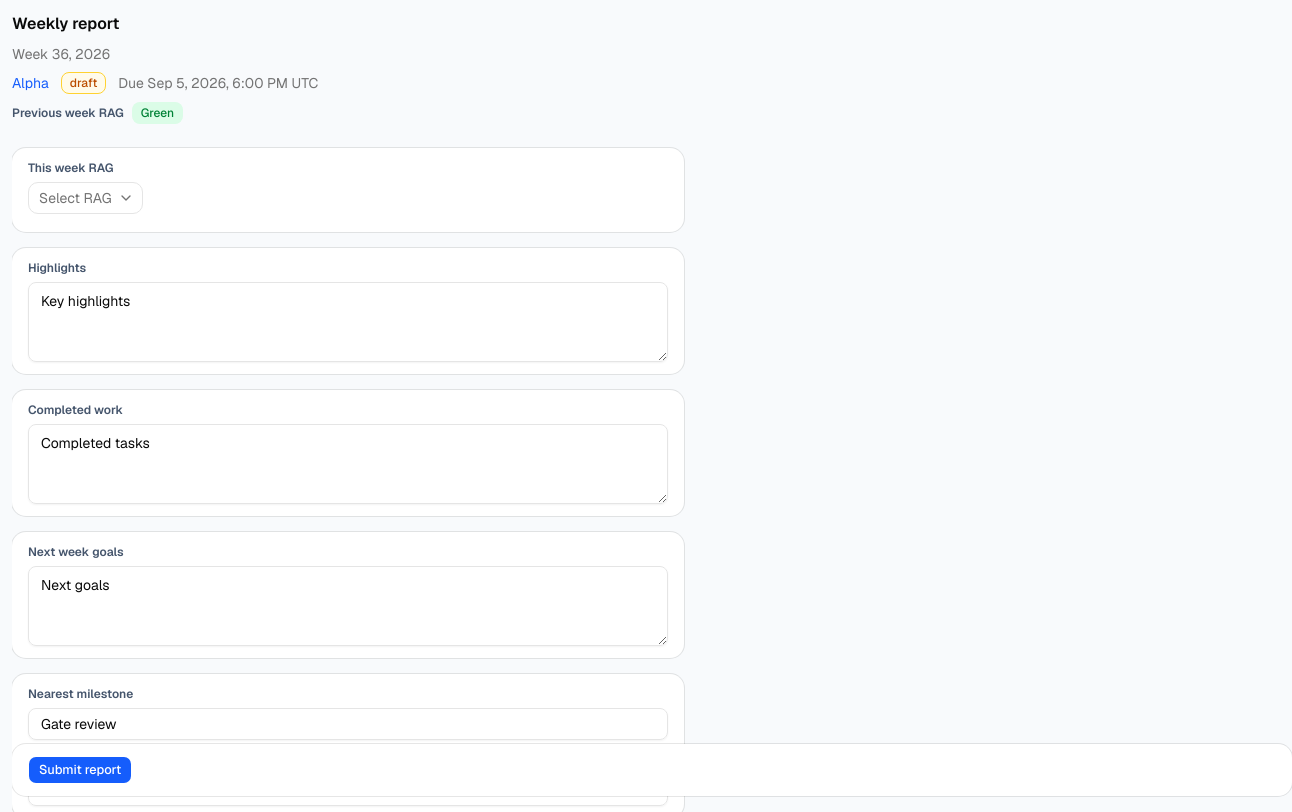
Test case: WeeklyReportEditorPage › draft PATCH › offers Title Case RAG options for this week
Click the dropdown named "This week RAG" at (85, 198), box [28,182,142,214]
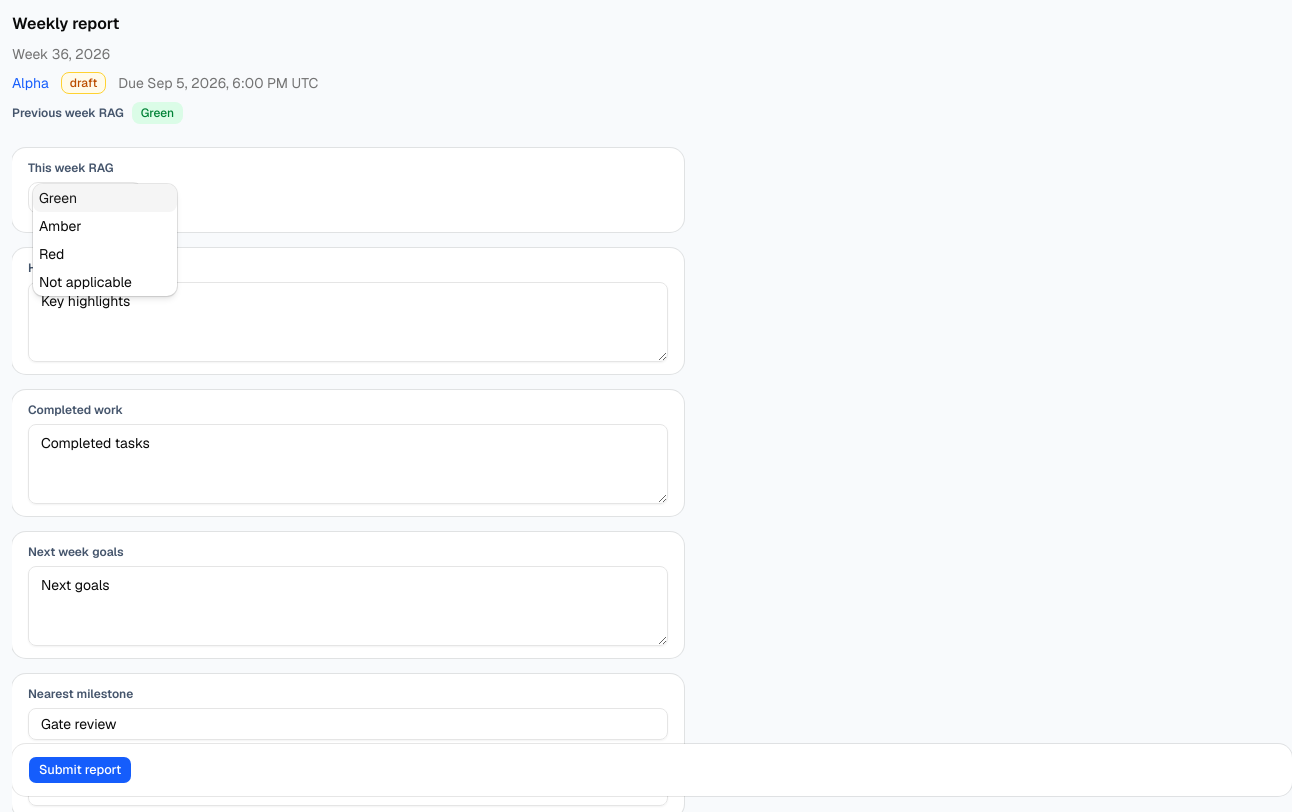
expect the option "Green" is shown: met, box [33,184,177,212]
expect the option "Amber" is shown: met, box [39,217,82,235]
expect the option "Red" is shown: met, box [39,245,64,263]
